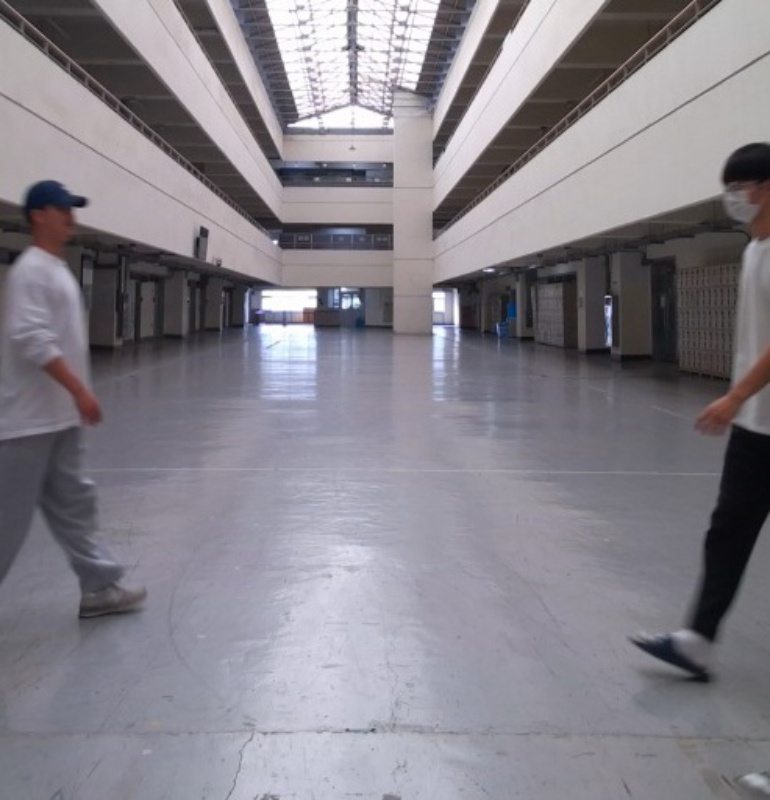person: (0, 178, 147, 621)
